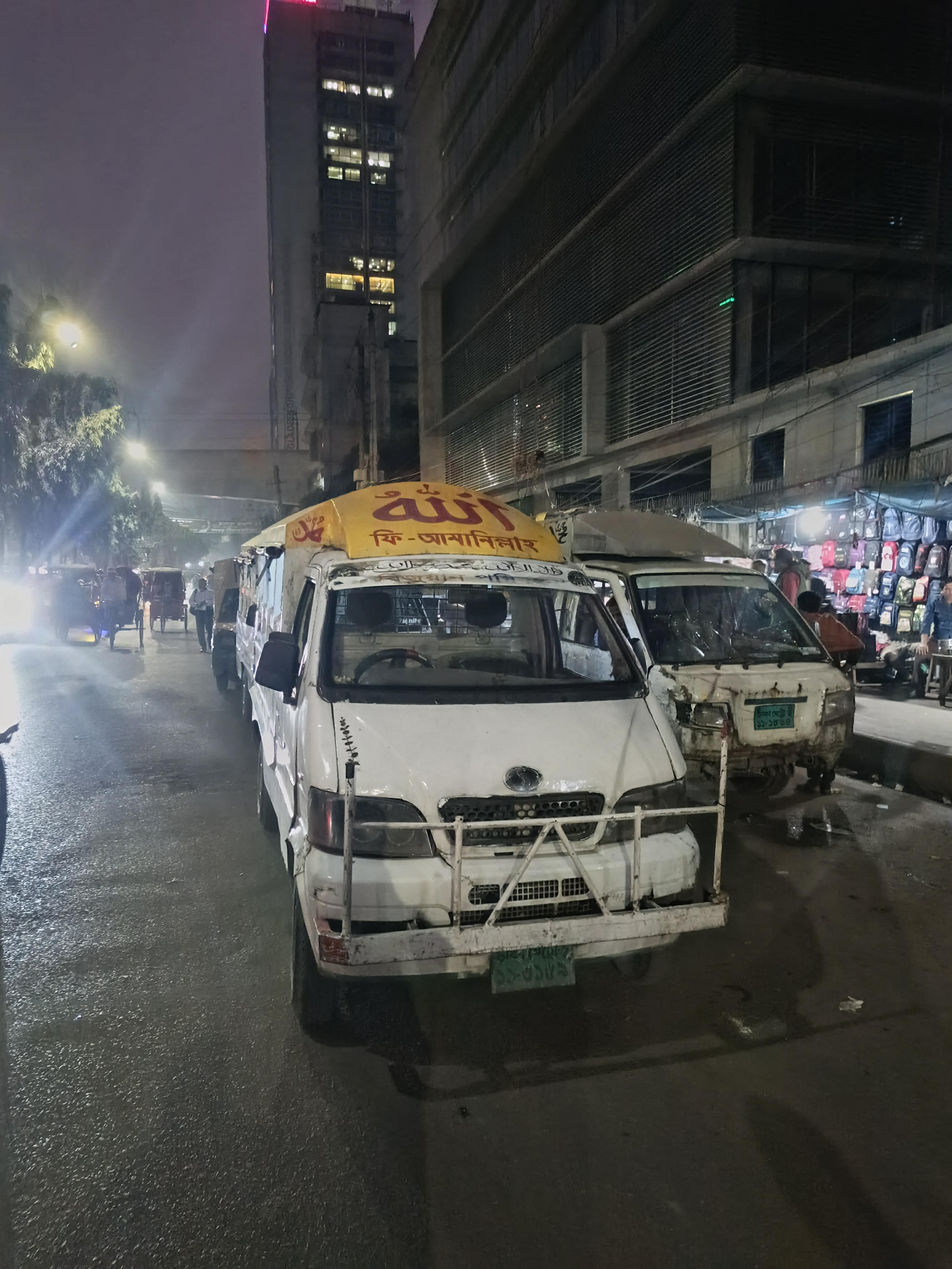Leguna: (175, 366, 867, 1147)
auto-ricksaw: (41, 547, 197, 668)
